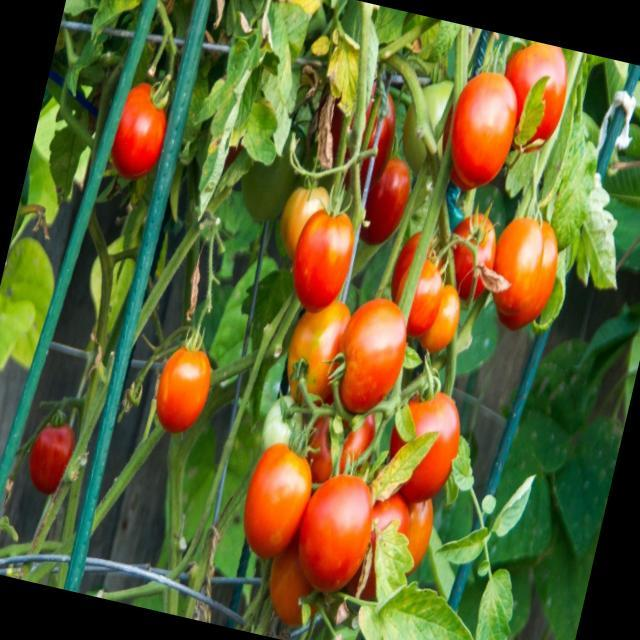TOMATO: (478, 195, 576, 340), (288, 463, 382, 596), (382, 381, 474, 508), (324, 292, 414, 420), (490, 36, 580, 158), (442, 68, 528, 192), (281, 204, 373, 318), (235, 434, 316, 551), (276, 294, 351, 411), (332, 68, 403, 188), (148, 336, 217, 444), (356, 142, 421, 255), (106, 75, 178, 177), (354, 483, 423, 588), (443, 205, 505, 296), (26, 401, 84, 498), (276, 178, 337, 263), (392, 481, 440, 580)
